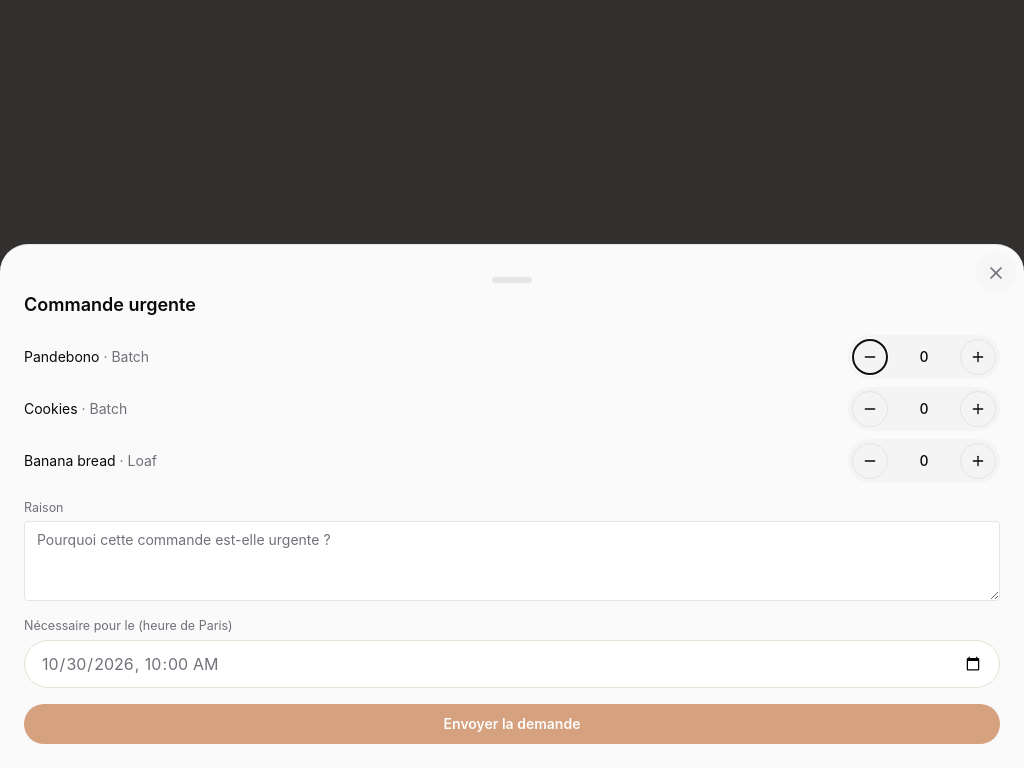
Test: UrgentOrderSheet needed-by › disables submit when needed-by is in the past
Click the button named "Augmenter la quantité" in the row of "Pandebono". click: point(978, 356)
box: [960,338,996,374]
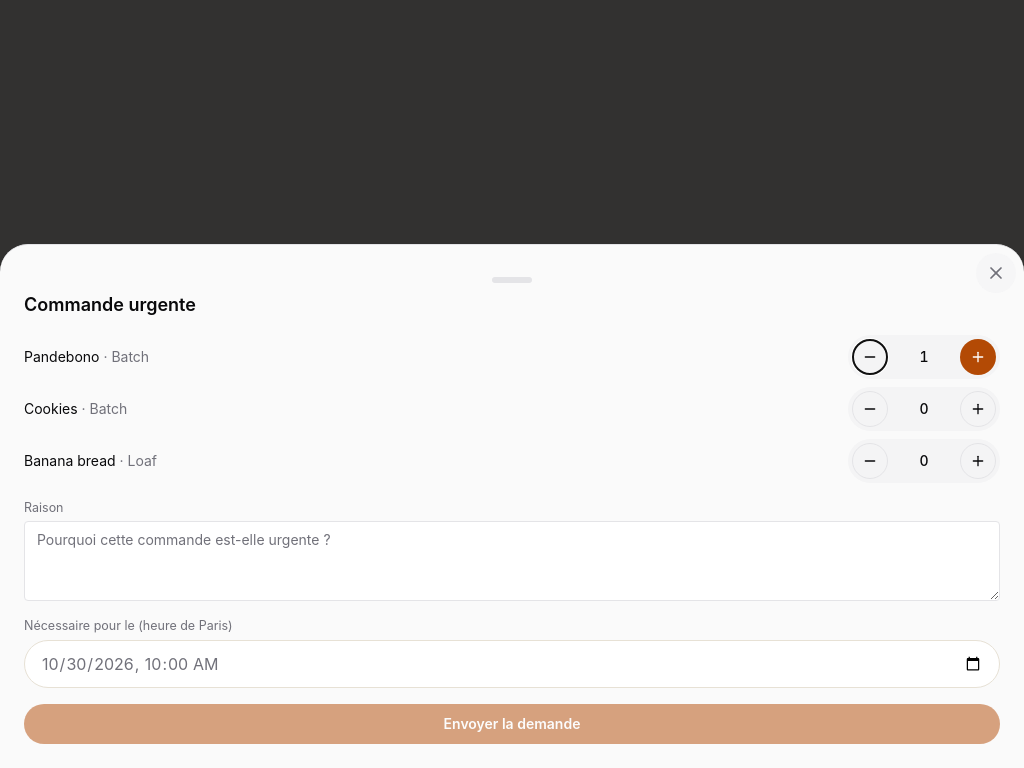
Type "x" into the text box with placeholder "Pourquoi cette commande est-elle urgente ?". click: point(512, 561)
box: [24,521,1000,601]
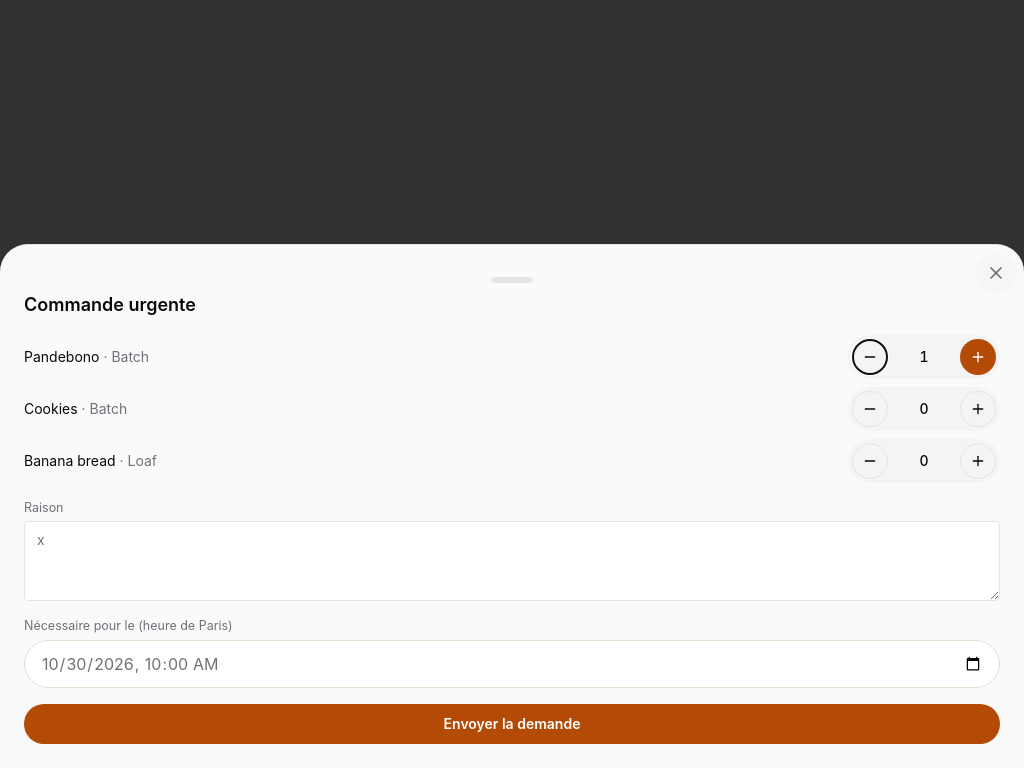
Replace the text in the field labelled "Nécessaire pour le (heure de Paris)" with "2020-01-01T10:00". click: point(512, 664)
box: [24,640,1000,688]
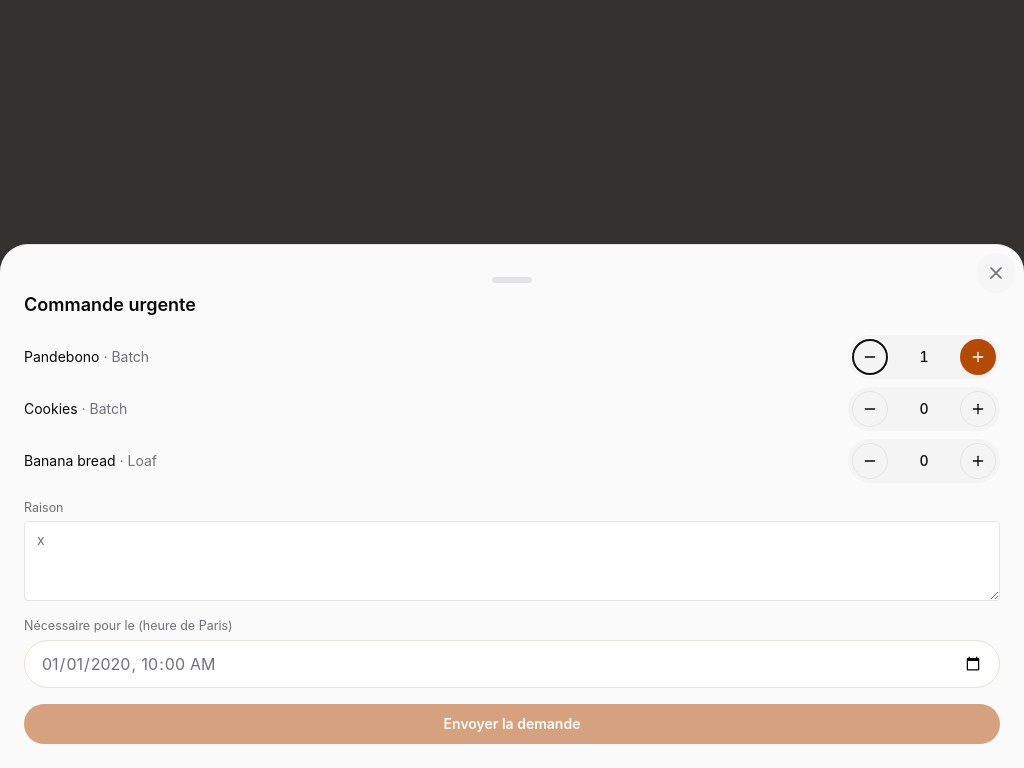
Expected: the button "Envoyer la demande" is disabled, [24,704,1000,744]
